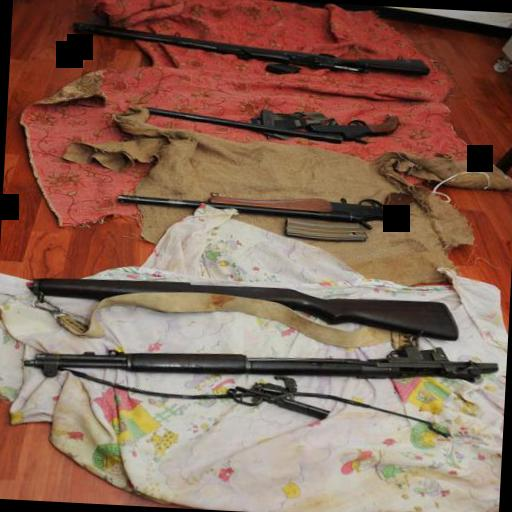Handgun: (105, 169, 419, 248), (117, 88, 401, 156)
